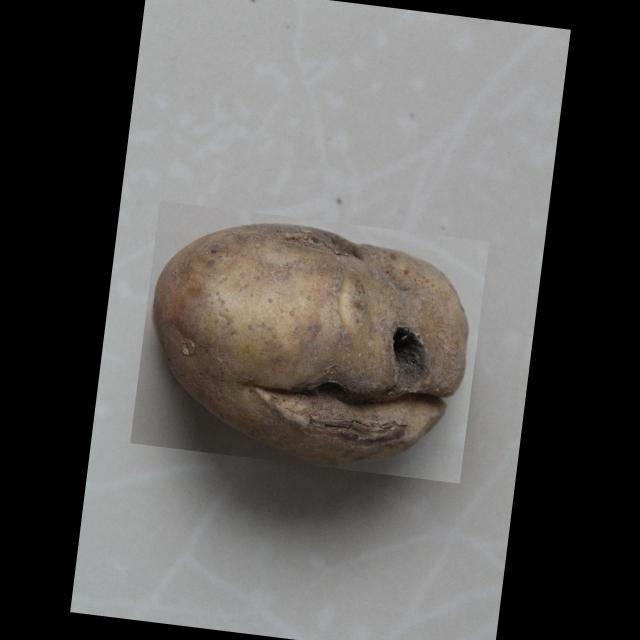Diseased-fungal potato: (130, 200, 489, 482)
